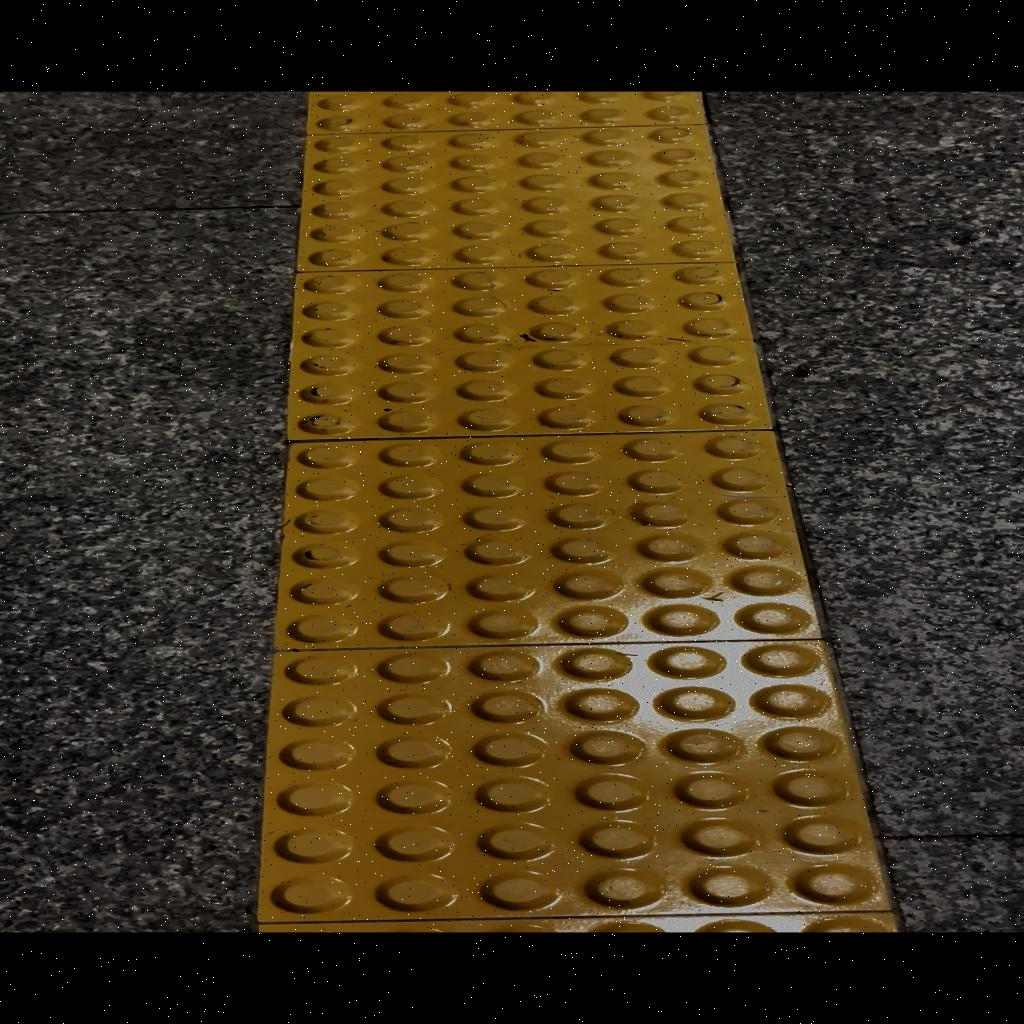Stop block normal: (275, 432, 821, 648)
